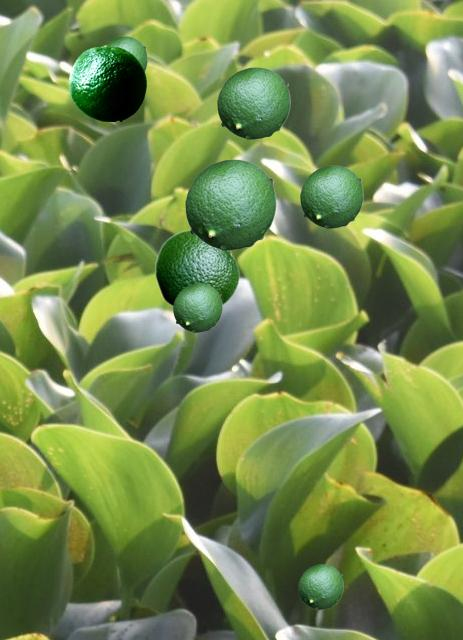calamansi: (185, 159, 275, 249), (154, 229, 239, 307), (69, 45, 145, 120), (217, 67, 289, 138), (300, 165, 362, 227), (173, 283, 221, 331), (298, 564, 342, 608), (104, 36, 146, 70)
